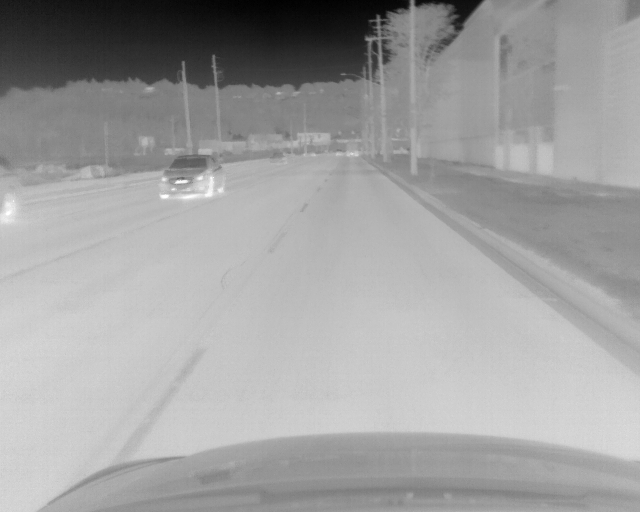car: (157, 154, 227, 200), (1, 161, 23, 227), (267, 151, 286, 164)
